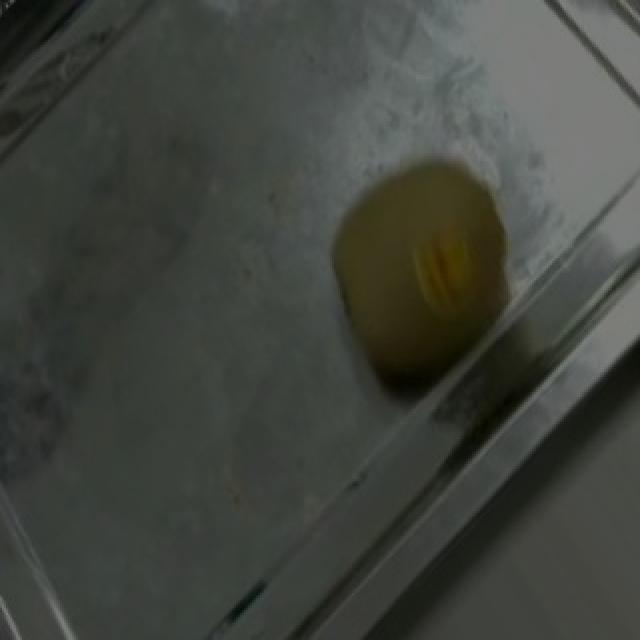Fruit: (290, 129, 556, 427)
